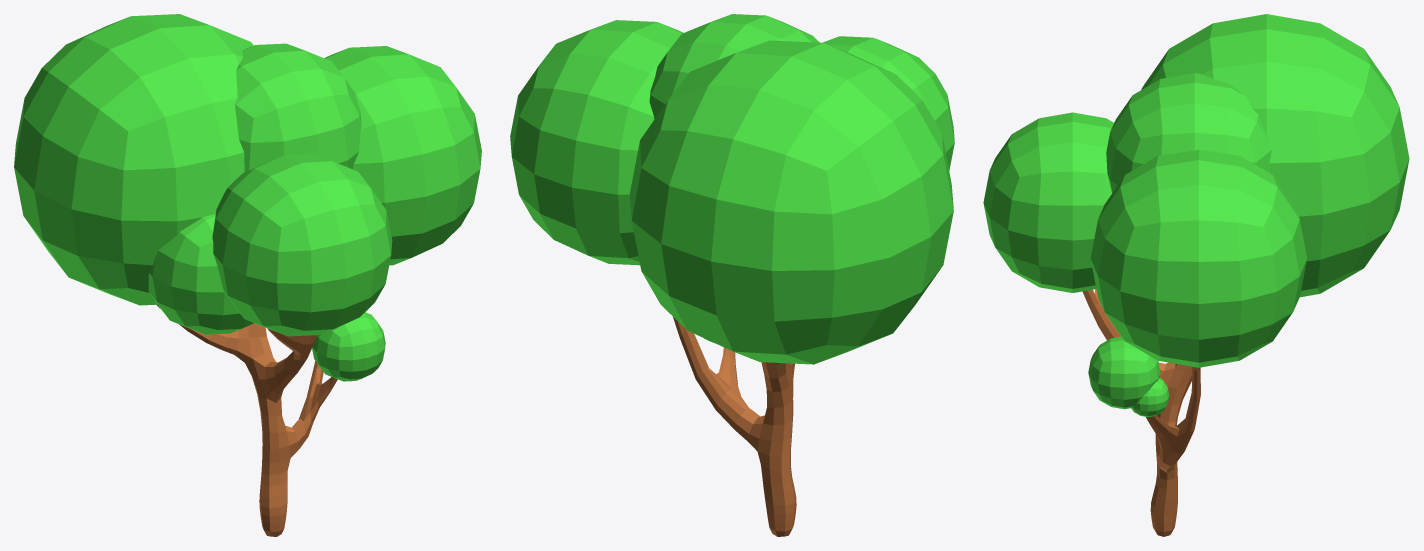
File: arvore_jogo_golfe_normal.fbx
The picture shows the model from 3 angles, left to right: view 1: azimuth 30°, elevation 25°; view 2: azimuth 150°, elevation 25°; view 3: azimuth 270°, elevation 25°; orthographic projection. The views are drawn at different scales.
Visible parts, largest first — view 1: Cube; view 2: Cube; view 3: Cube.
Boxes of the visible parts, box(x1,y1,x2,y2) form: Cube: box(14, 14, 481, 536); Cube: box(510, 14, 954, 536); Cube: box(983, 14, 1409, 536).
Bounding box in the file's own units: 4036 × 4700 × 3798.
